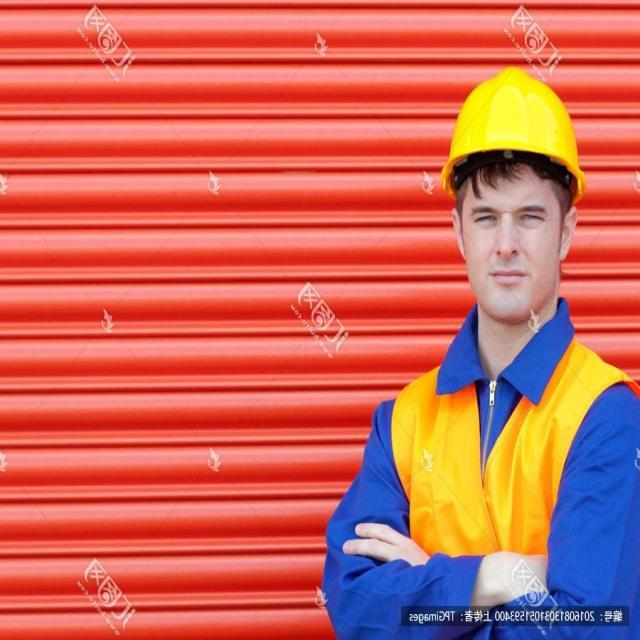reflective_jacket: (385, 333, 638, 568)
safety_helmet: (437, 63, 590, 200)
